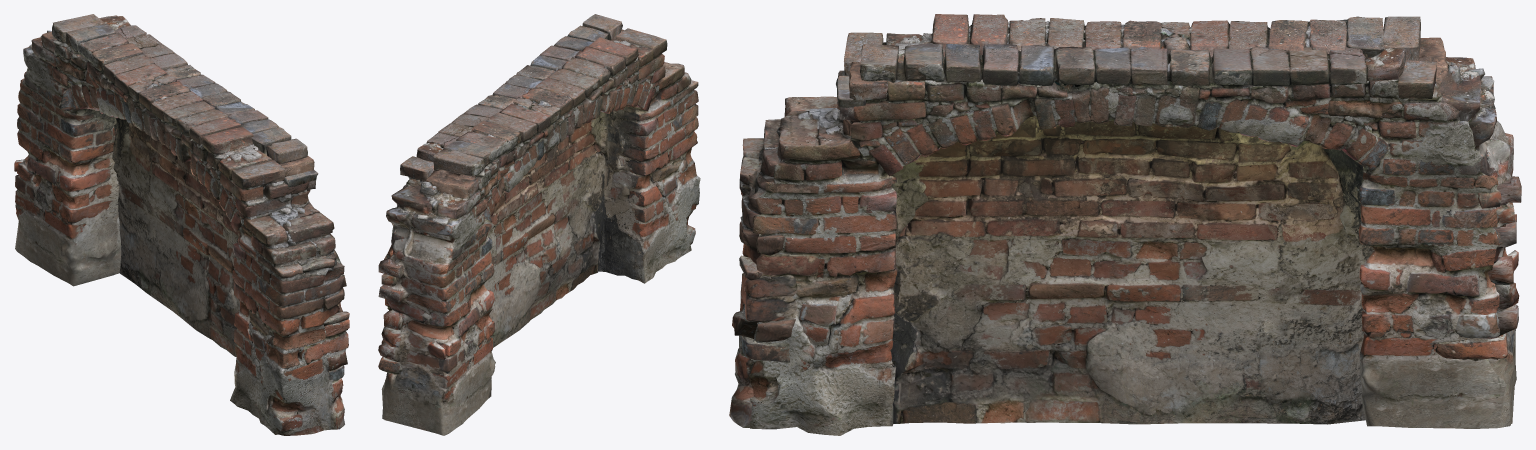
The model's file is sm_Wall_03_02.fbx.
3 views of the same model, side by side, from view 1: azimuth 30°, elevation 25°; view 2: azimuth 150°, elevation 25°; view 3: azimuth 270°, elevation 25° (orthographic). The views are drawn at different scales.
Parts seen in each view (by area): view 1: sm_Wall_03_02_LOD0; view 2: sm_Wall_03_02_LOD0; view 3: sm_Wall_03_02_LOD0.
Boxes of the visible parts, x1=… form: sm_Wall_03_02_LOD0: x1=14, y1=14, x2=349, y2=435; sm_Wall_03_02_LOD0: x1=378, y1=14, x2=700, y2=435; sm_Wall_03_02_LOD0: x1=729, y1=14, x2=1521, y2=435.
Bounding box in the file's own units: 53.64 × 302 × 155.
